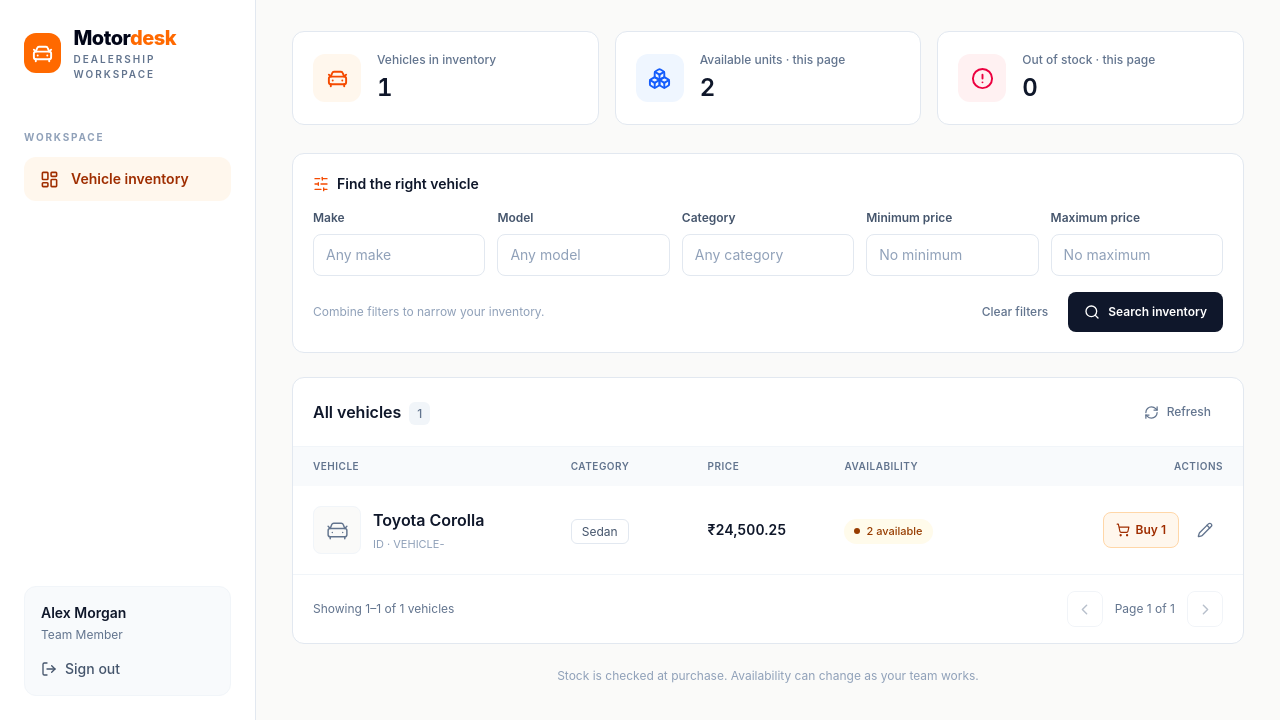
Test: purchases exactly one unit and refreshes inventory
(page scrolled)
Expected: the heading "Toyota Corolla" is shown, [373, 508, 484, 532]
Click the button with aria-label "Purchase Toyota Corolla" at [1141, 530], box [1103, 512, 1179, 548]
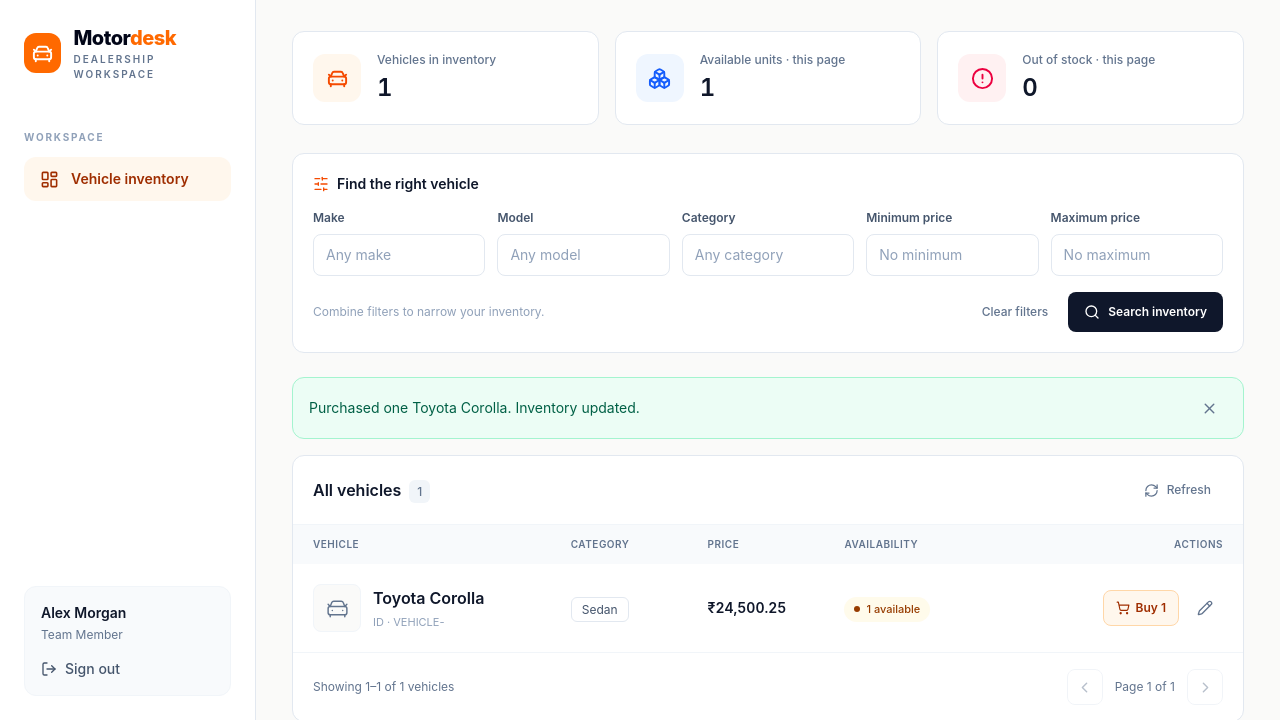
Now the text "1 available" is shown, box [844, 597, 930, 622]
Now the message shows "Purchased one Toyota Corolla", box [309, 399, 640, 416]
